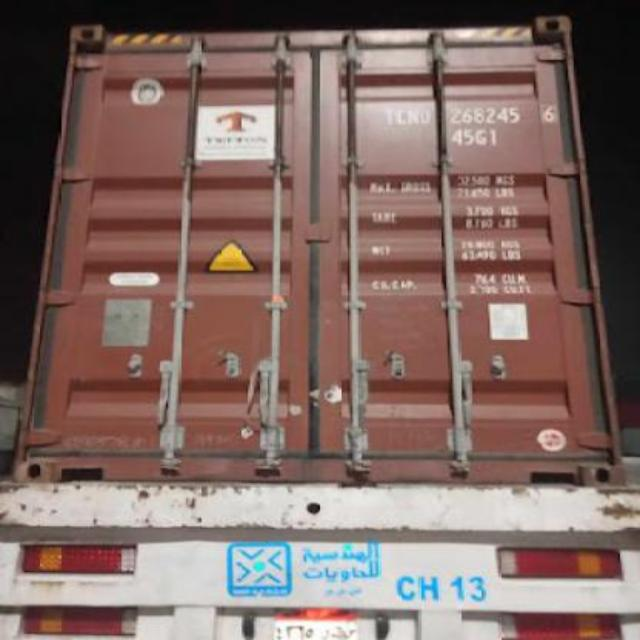2: (446, 94, 458, 126), (484, 102, 496, 126)
4: (498, 103, 508, 123)
5: (506, 100, 520, 124)
6: (540, 98, 558, 126), (461, 93, 474, 123)
8: (474, 104, 484, 126)
C: (394, 104, 406, 128)
N: (404, 105, 420, 128)
T: (380, 102, 398, 128)
